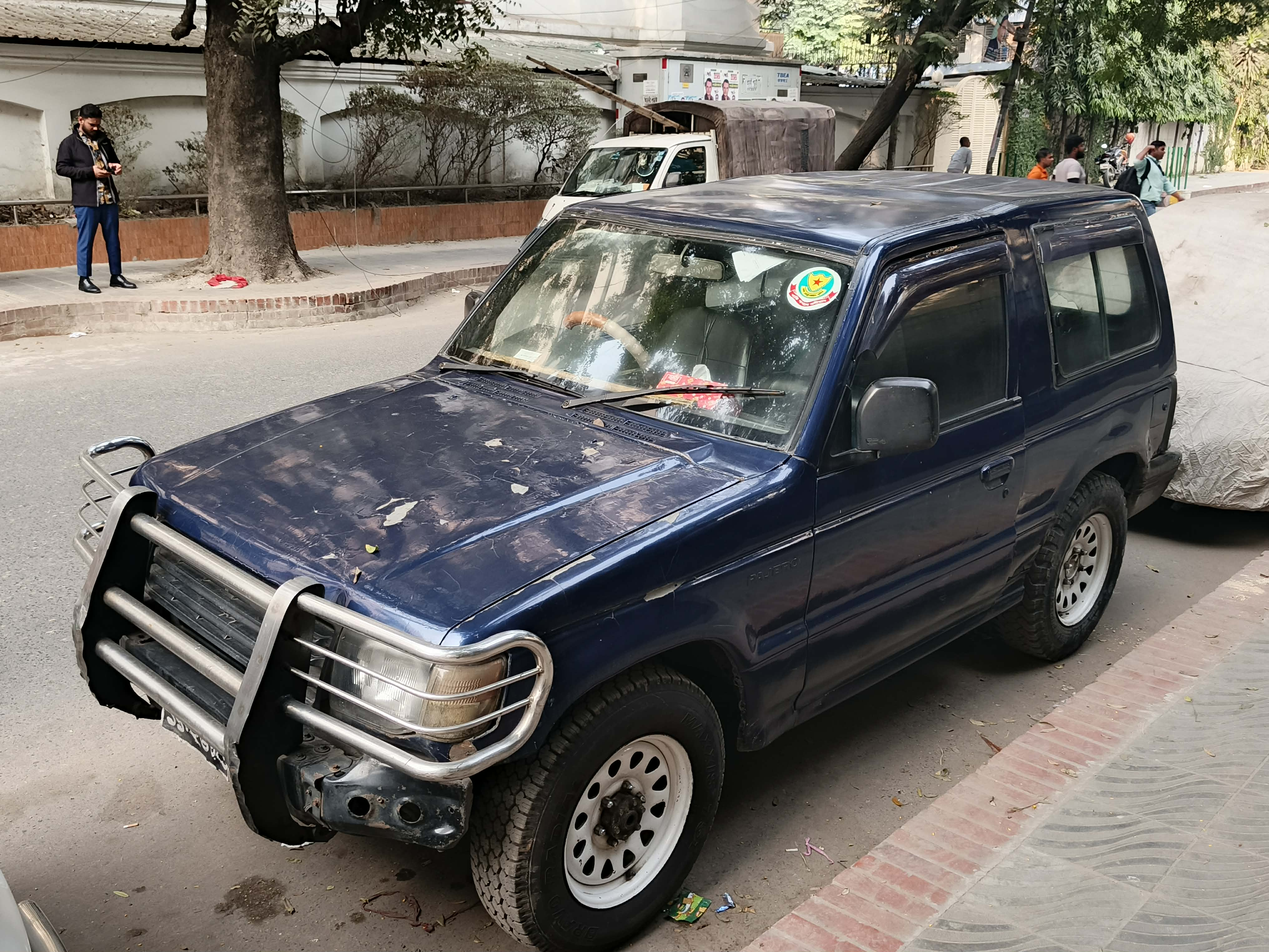Police cars: (75, 122, 1230, 911), (506, 72, 865, 230)
